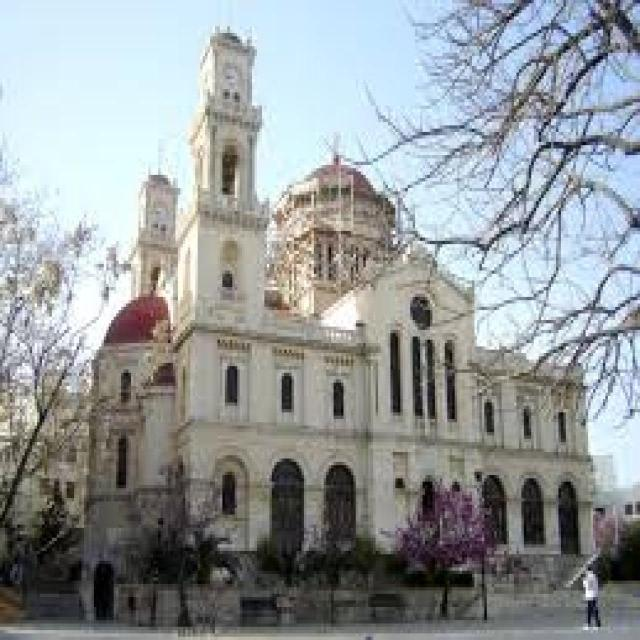Agios Minas: (86, 15, 596, 568)
